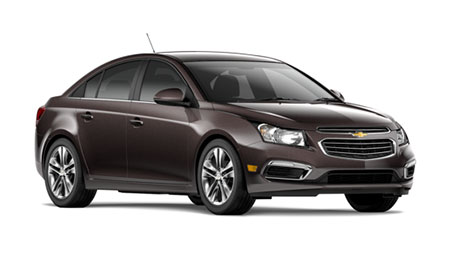sedan: (33, 49, 418, 215)
